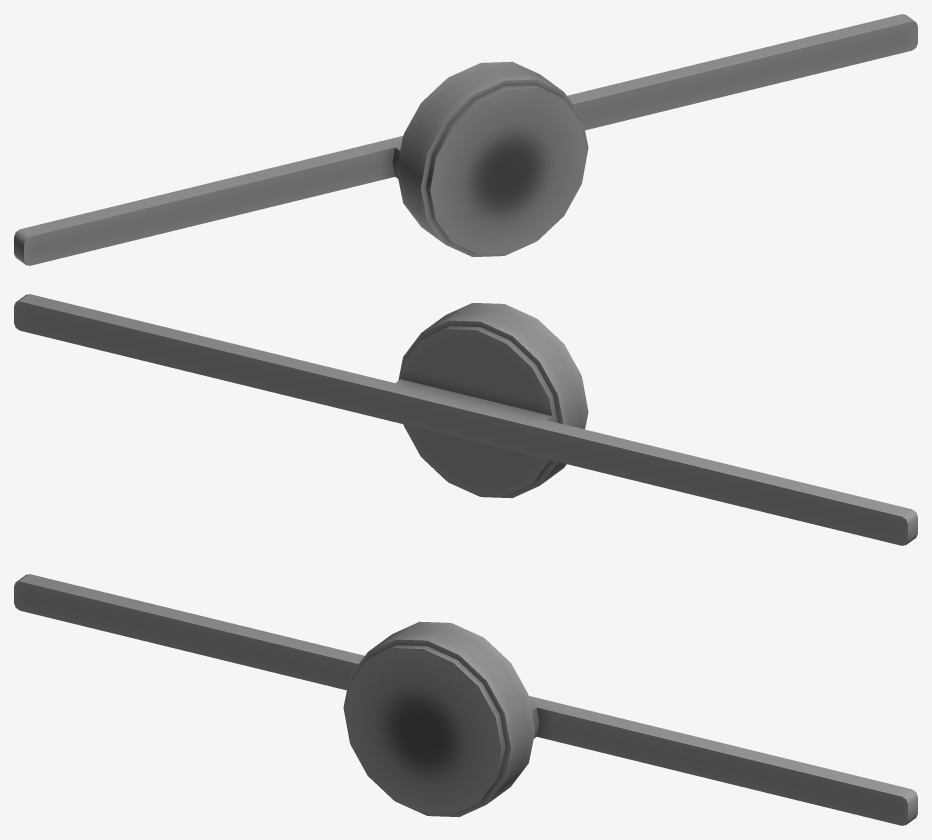
File: Acamar_Solar_1_Pivot_1.obj
The picture shows the model from 3 angles, top to bottom: view 1: azimuth 30°, elevation 25°; view 2: azimuth 150°, elevation 25°; view 3: azimuth 330°, elevation 25°; orthographic projection.
Parts seen in each view (by area): view 1: Acamar_Solar_1_Pivot_1; view 2: Acamar_Solar_1_Pivot_1; view 3: Acamar_Solar_1_Pivot_1.
Boxes of the visible parts, x1,y1,x2,y2 form: Acamar_Solar_1_Pivot_1: (14, 14, 917, 265); Acamar_Solar_1_Pivot_1: (14, 294, 917, 545); Acamar_Solar_1_Pivot_1: (14, 574, 917, 825).
Size of the model in its own units: 1.28 by 0.24 by 0.1185.
